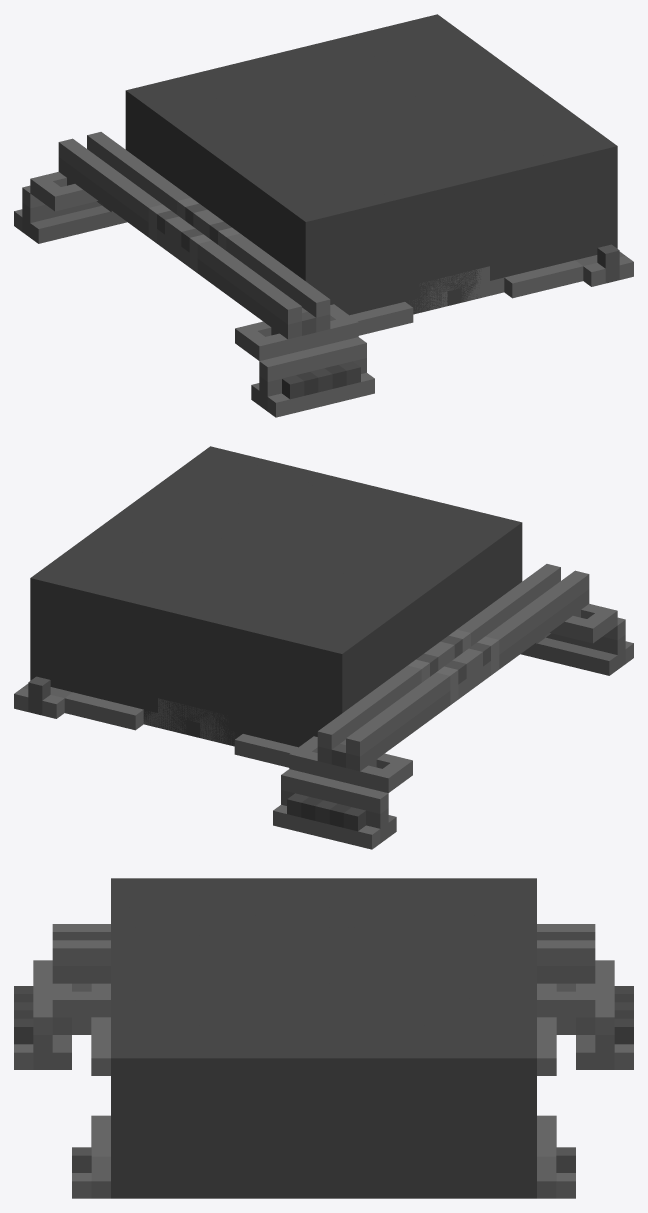
File: bufferzhextension.obj
3 renders of one model, top to bottom at view 1: azimuth 30°, elevation 25°; view 2: azimuth 150°, elevation 25°; view 3: azimuth 270°, elevation 25°, orthographic. The views are drawn at different scales.
Visible parts, largest first — view 1: invisible, FRAME; view 2: invisible, FRAME; view 3: invisible, FRAME.
Part boxes in pixels (<box>): invisible: <box>125,14,617,315</box>; FRAME: <box>14,132,633,417</box>; invisible: <box>30,446,522,747</box>; FRAME: <box>14,564,633,849</box>; invisible: <box>111,878,536,1198</box>; FRAME: <box>14,924,633,1198</box>.
Size of the model in its own units: 1.69 by 0.625 by 2.
1 material, 1 textured.
